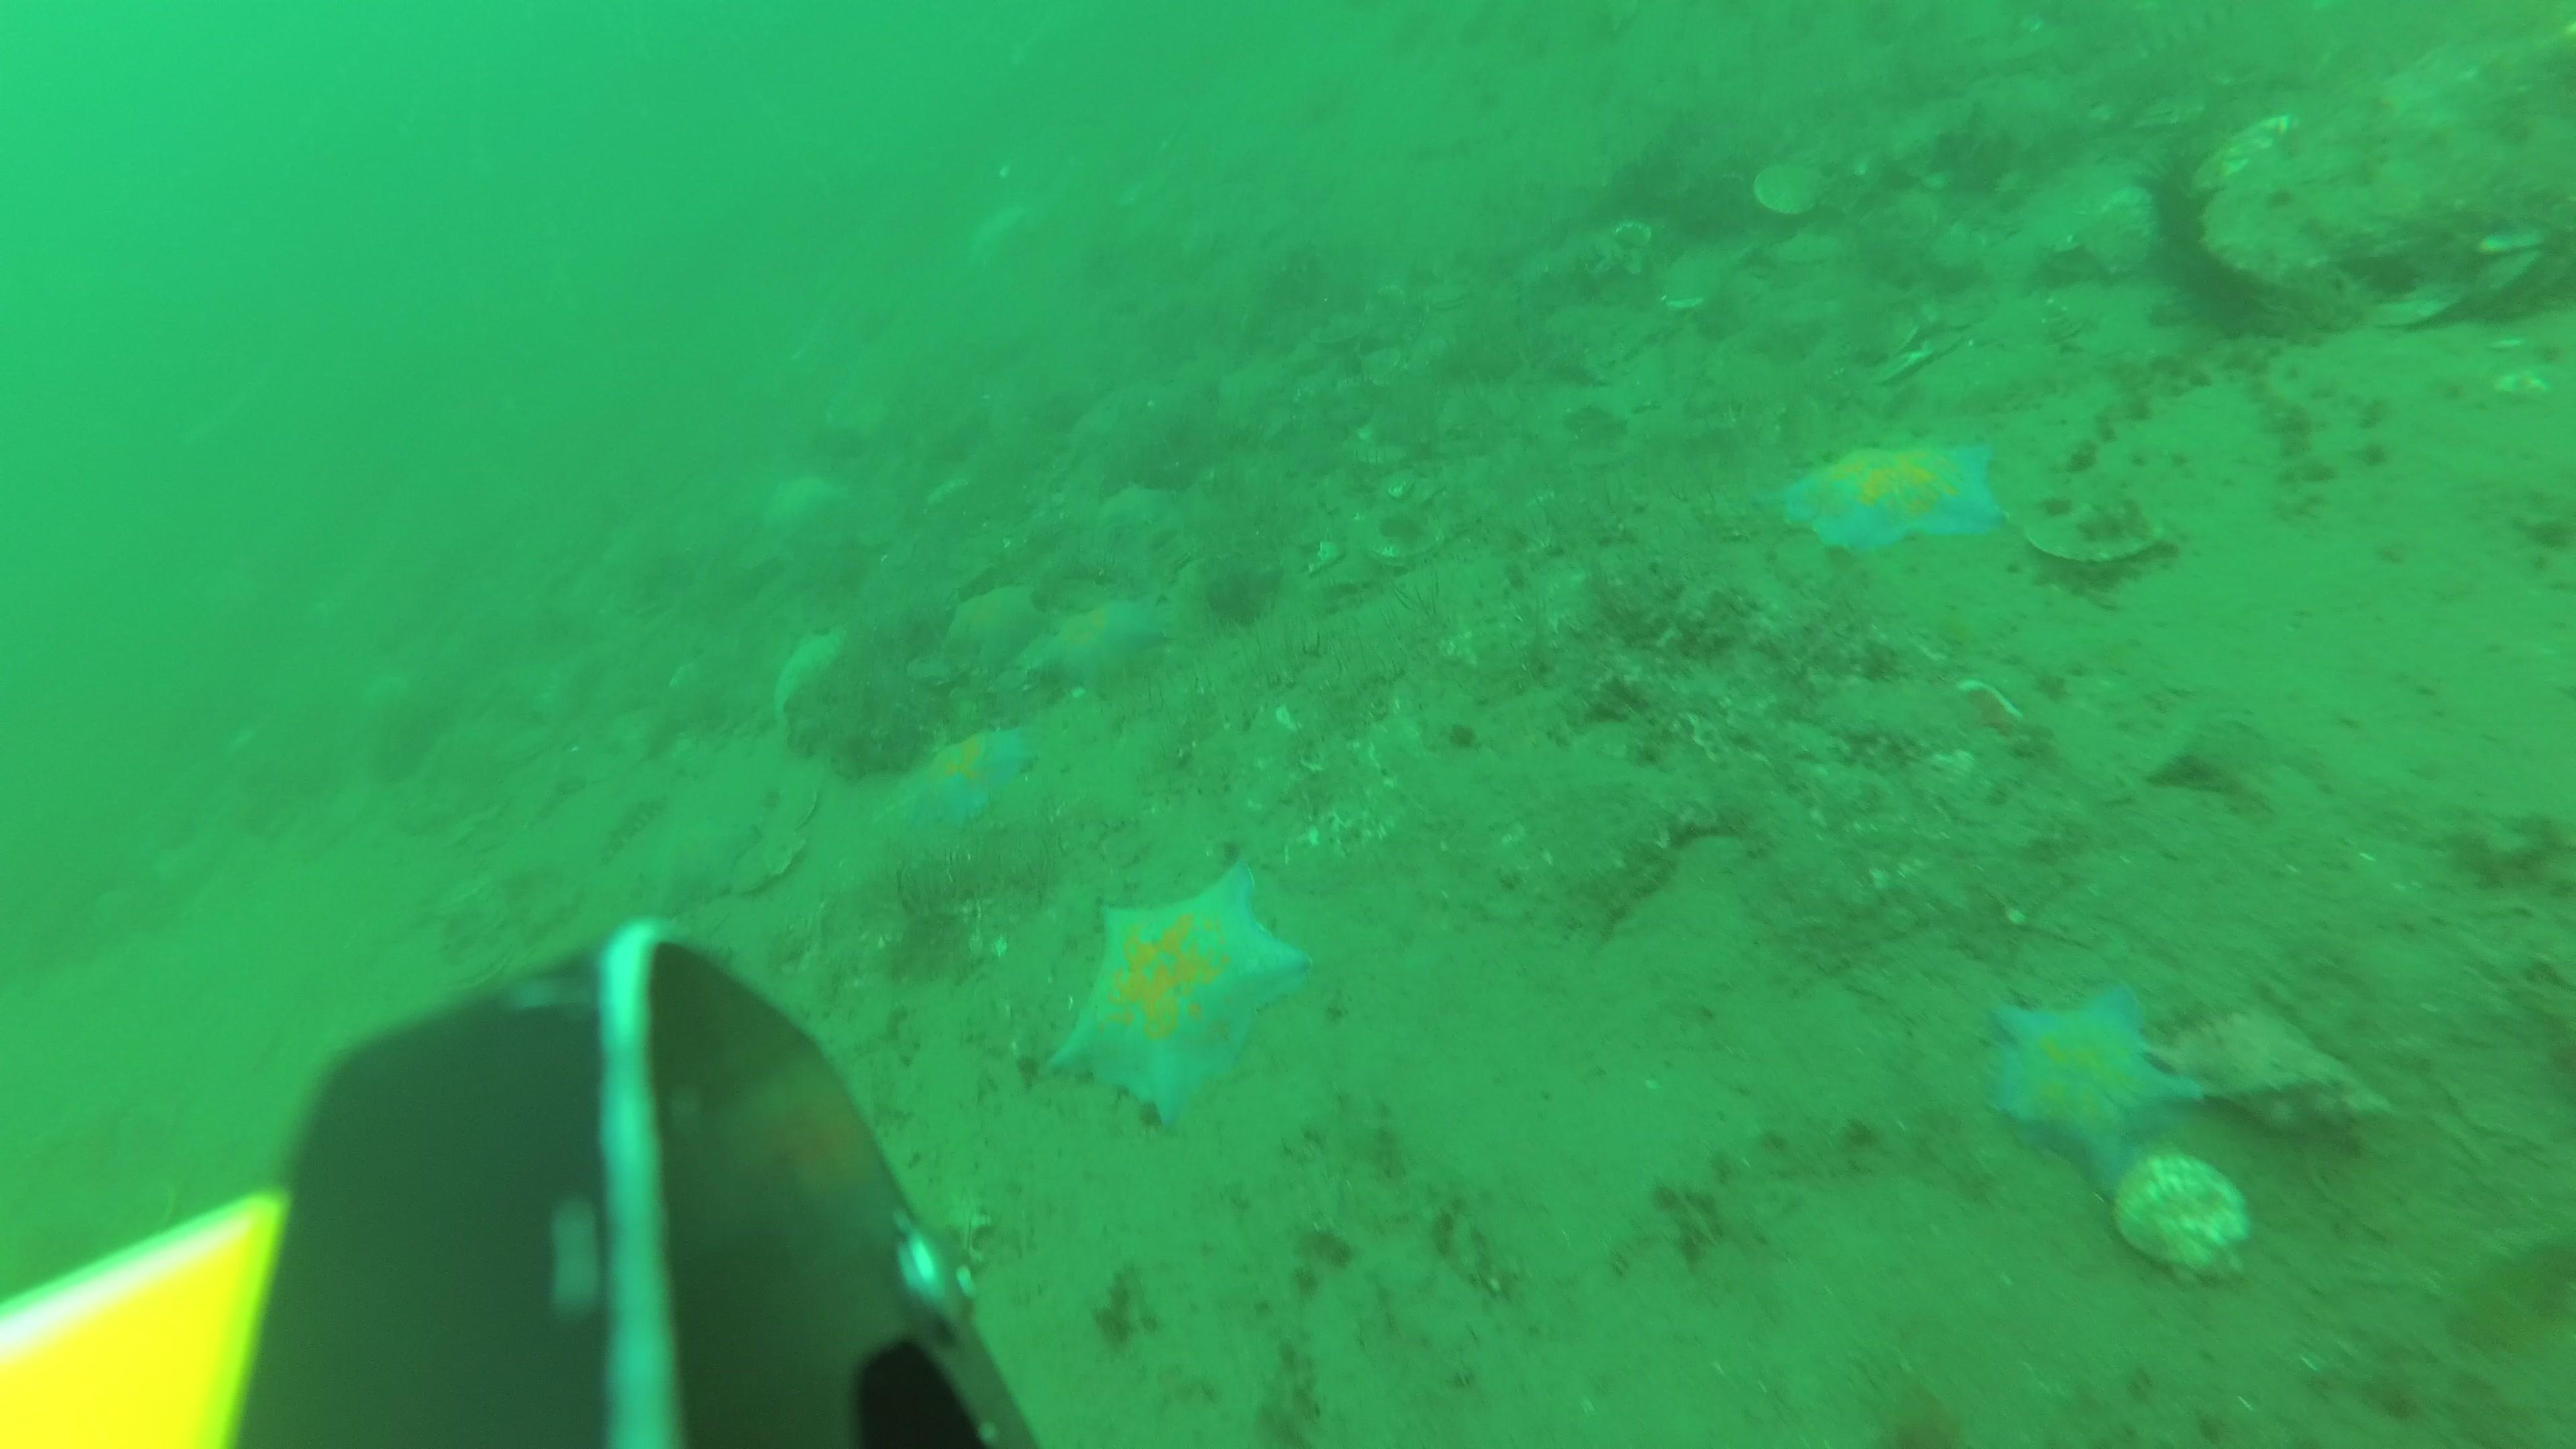echinus: (2137, 156, 2245, 249), (2189, 235, 2288, 331)
holothurian: (594, 794, 669, 865)
scallop: (2116, 1155, 2259, 1276), (2031, 499, 2166, 568), (1355, 511, 1444, 570), (1759, 159, 1835, 214)
starfish: (1049, 860, 1311, 1129), (1985, 984, 2201, 1201), (1759, 439, 2001, 561), (878, 722, 1028, 849), (1021, 600, 1162, 701), (1065, 373, 1182, 495), (640, 812, 757, 927), (943, 579, 1042, 683), (766, 628, 851, 743), (1100, 483, 1182, 561)
